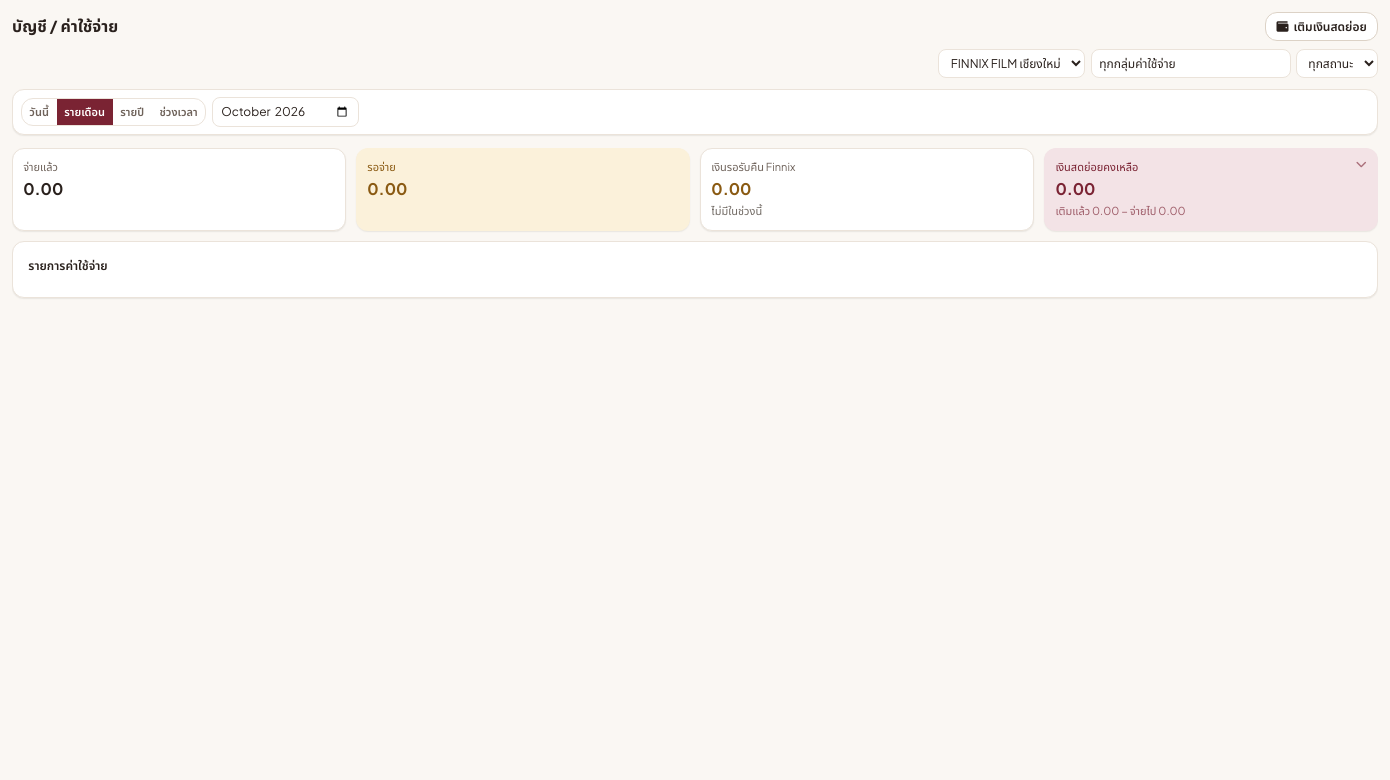
Test: AccountingModule — เติมเงินสดย่อย › will not save until the source is chosen
Click the button "เติมเงินสดย่อย" at coordinates (1322, 27), box [1265,12,1378,41]
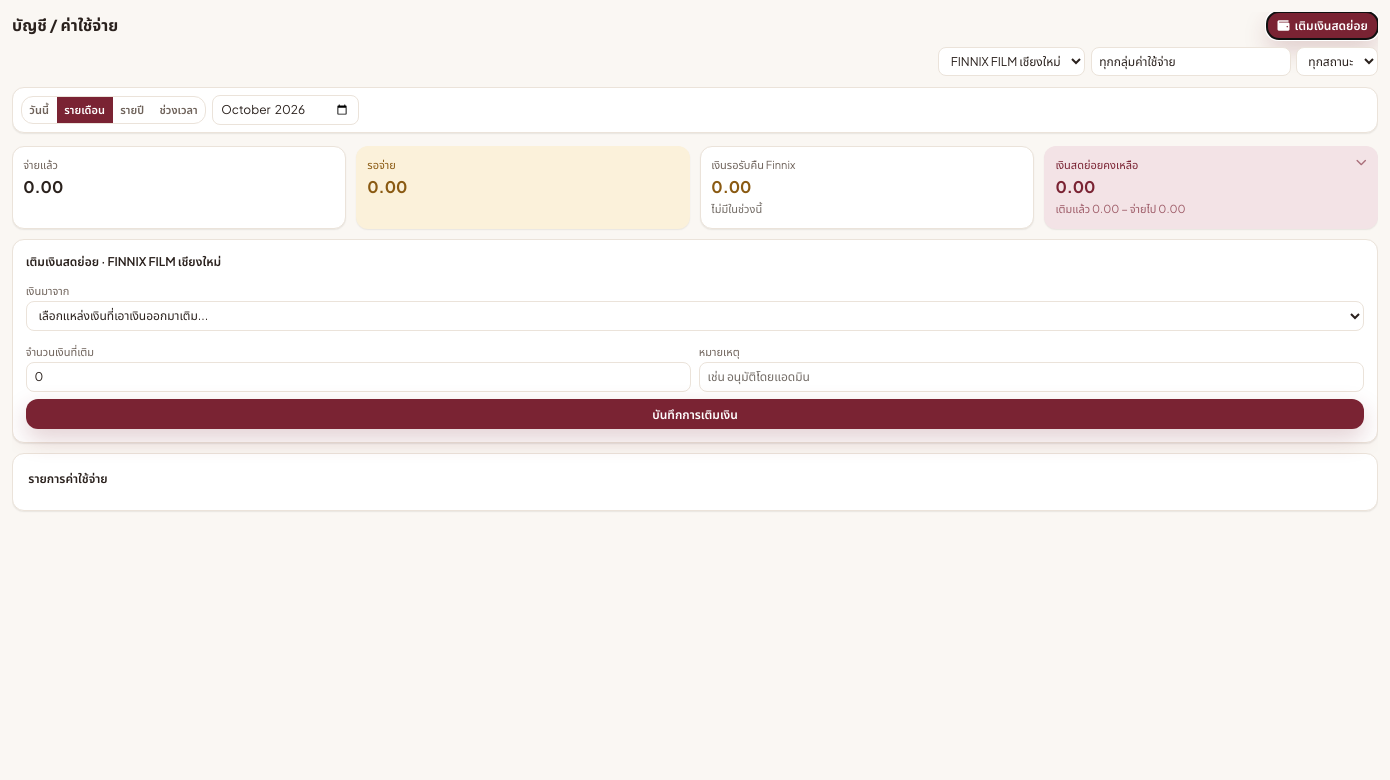
Replace the text in the number field with "500" at coordinates (358, 377), box [26,362,691,392]
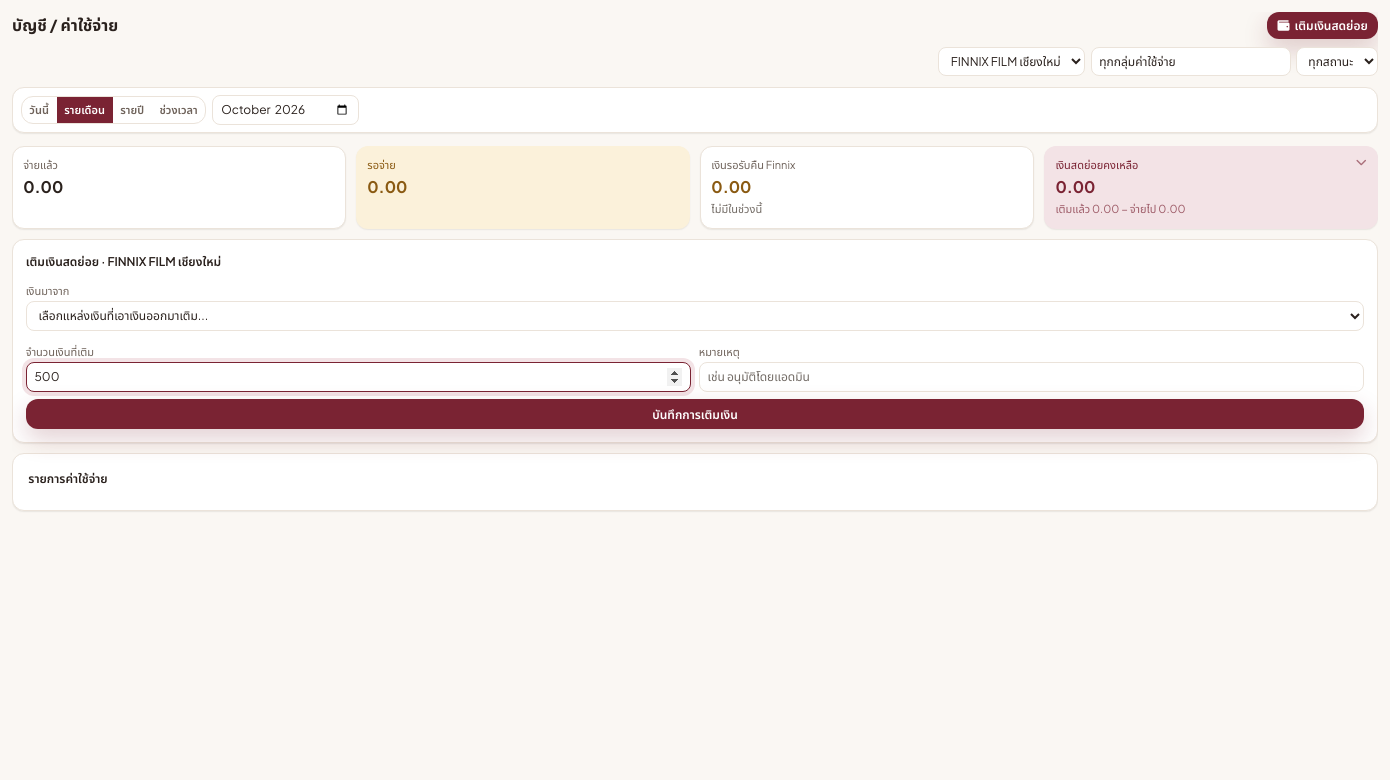
Click the button "บันทึกการเติมเงิน" at coordinates (695, 414), box [26,399,1364,429]
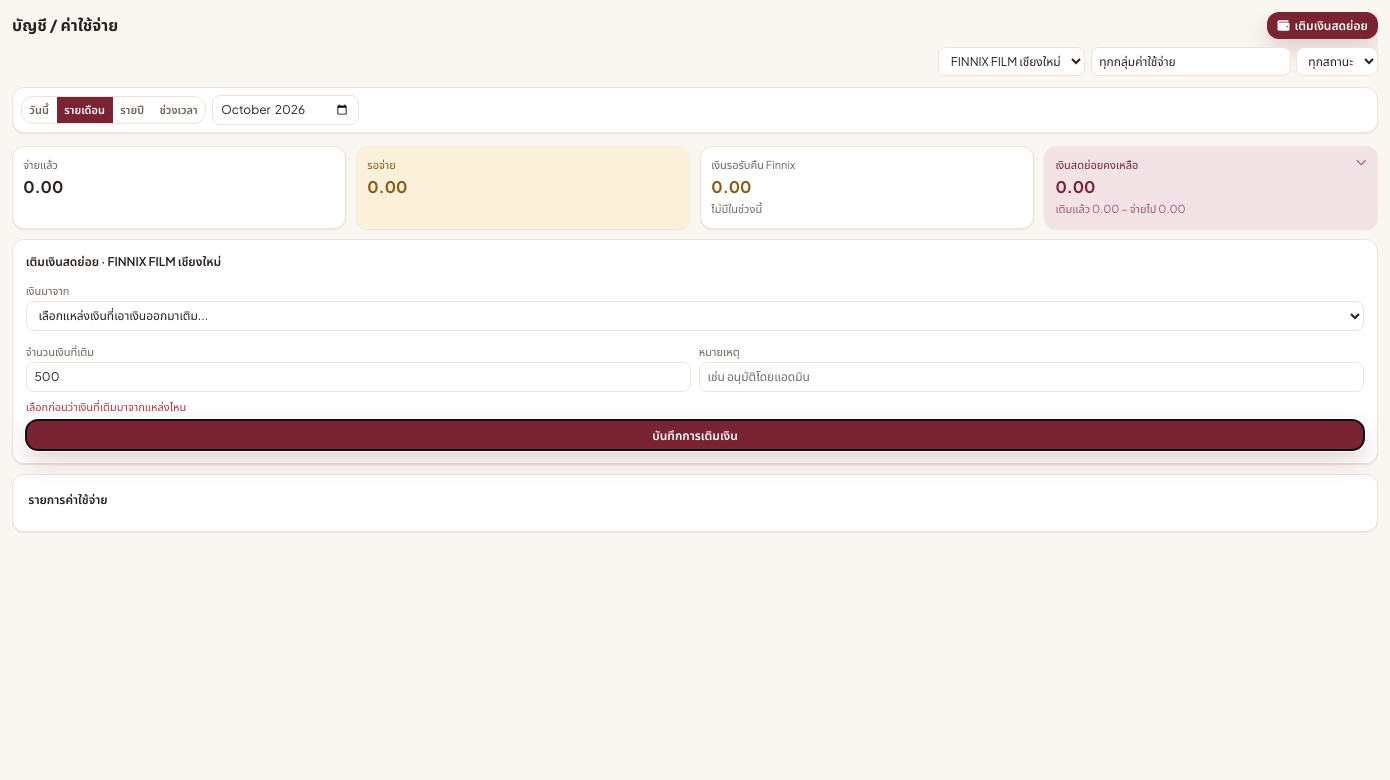
Now the message reads "เลือกก่อนว่าเงินที่เติมมาจากแหล่งไหน", box [26,400,186,413]
